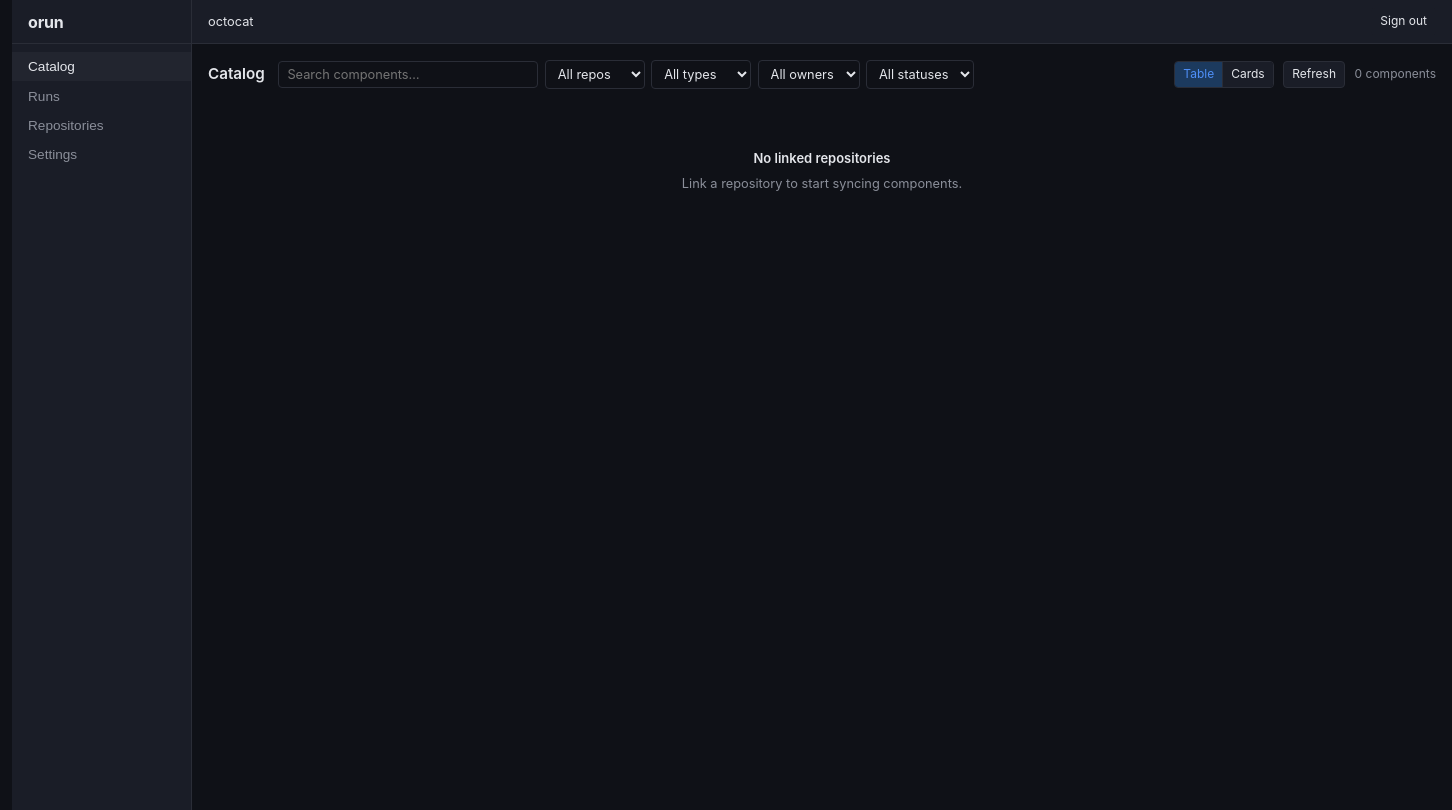
Scenario: App — authenticated shell › navigates to Settings when nav item clicked
Click the button "Settings" at [102, 155], box [12,140,191,170]
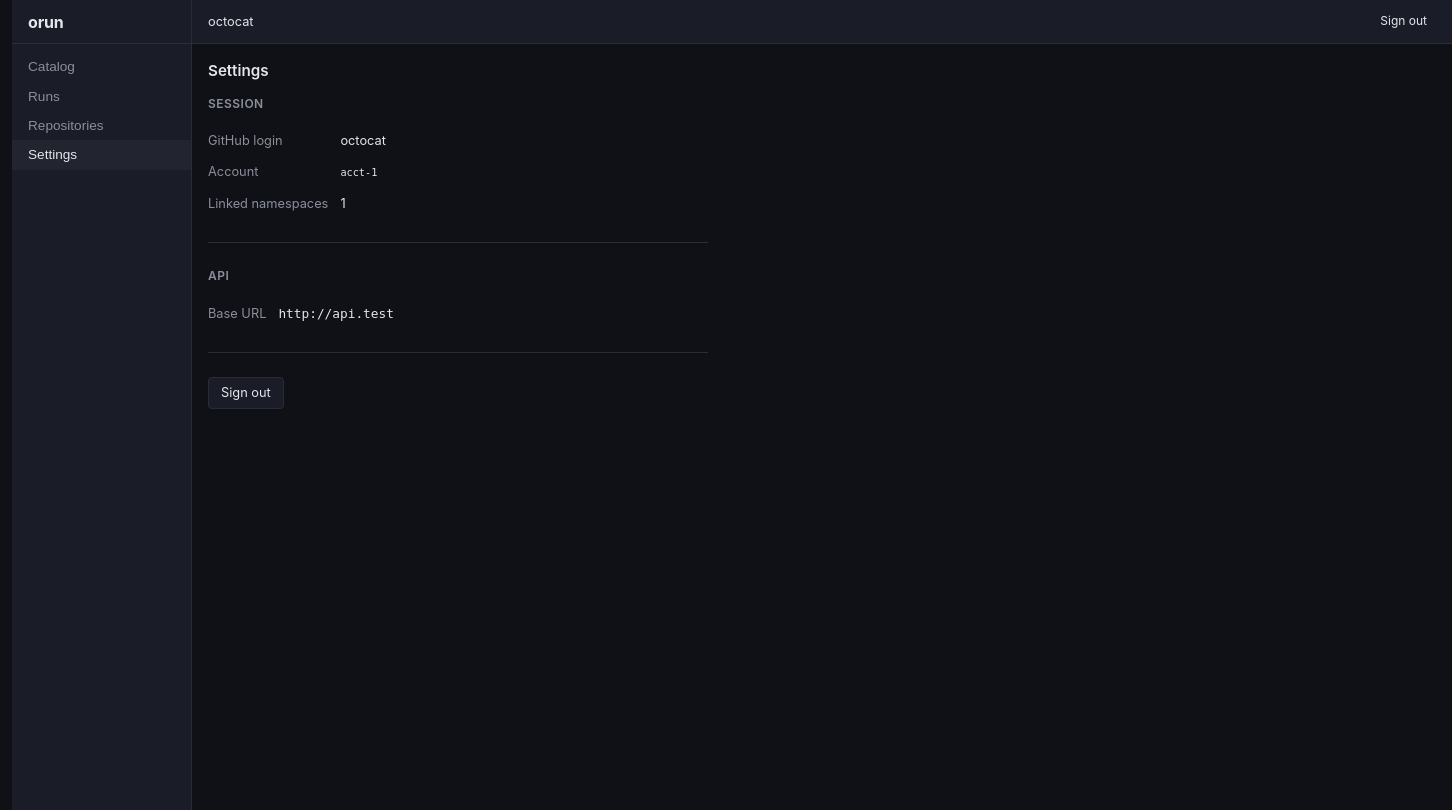
Expected: the text "GitHub login" is shown, [208,133,283,148]
